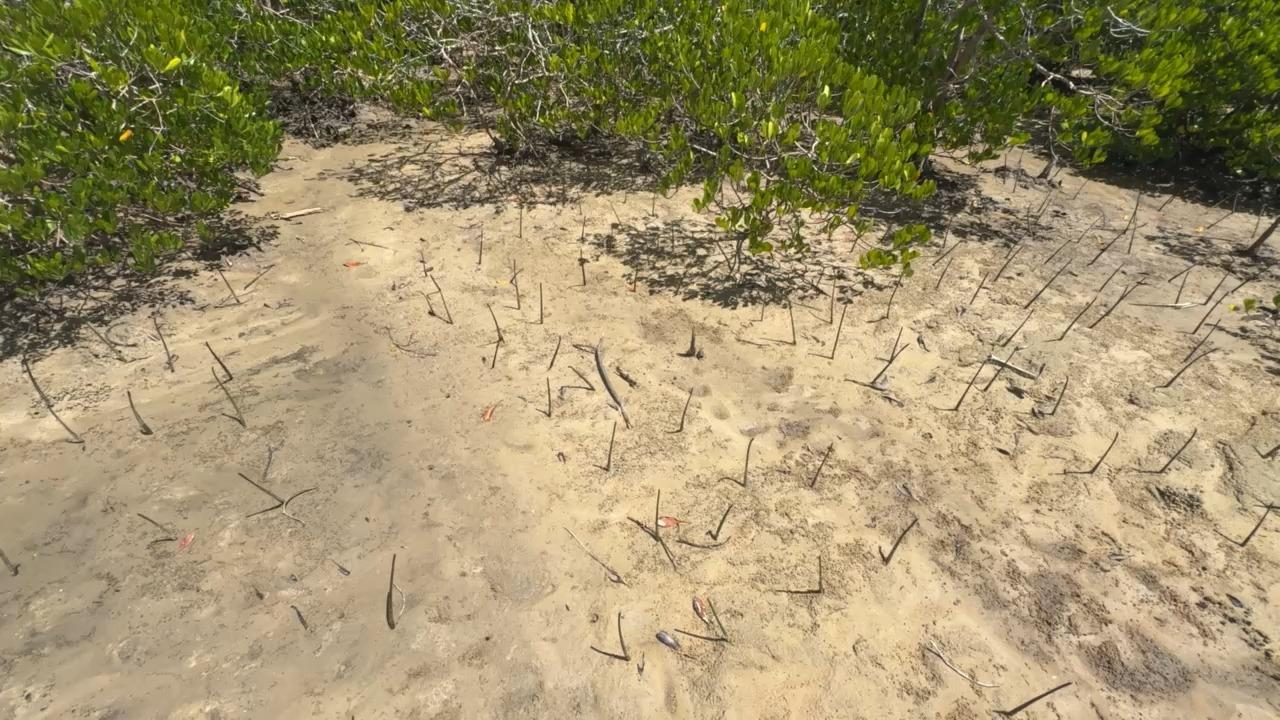Tree: (1163, 346, 1221, 388), (1023, 259, 1071, 309), (1005, 681, 1073, 715), (211, 366, 246, 428), (80, 316, 125, 362), (1087, 284, 1130, 329), (1156, 427, 1197, 473), (1058, 296, 1097, 341), (1192, 290, 1230, 335), (954, 360, 987, 411), (1183, 319, 1222, 362), (886, 261, 914, 319), (983, 346, 1018, 392), (871, 343, 910, 384), (884, 518, 918, 565), (24, 352, 52, 407), (237, 472, 284, 503), (1240, 503, 1273, 547), (1090, 431, 1119, 474), (1087, 233, 1123, 266), (1002, 309, 1034, 346), (153, 317, 174, 372), (47, 405, 79, 440), (127, 391, 153, 434), (1168, 256, 1209, 283), (809, 443, 834, 487), (137, 512, 176, 540), (993, 246, 1024, 281), (205, 340, 232, 380), (1122, 184, 1143, 234), (706, 597, 729, 642), (850, 216, 875, 252), (831, 304, 847, 360), (1203, 272, 1229, 306), (386, 554, 397, 630), (932, 240, 961, 266), (217, 269, 239, 303), (1051, 375, 1069, 416), (509, 259, 523, 310), (568, 365, 595, 391), (617, 611, 631, 661), (486, 303, 504, 341), (969, 271, 989, 305), (1076, 216, 1101, 243), (244, 266, 272, 290), (715, 504, 733, 540), (1044, 240, 1071, 264), (1099, 264, 1123, 291), (680, 387, 694, 431), (1231, 272, 1259, 294), (1004, 232, 1027, 258), (935, 258, 954, 289), (1212, 189, 1241, 209), (607, 421, 618, 472), (1251, 203, 1267, 238), (1206, 210, 1235, 229), (547, 335, 561, 371), (1122, 277, 1146, 298), (743, 438, 753, 488), (1174, 271, 1189, 304), (1034, 197, 1052, 224), (890, 326, 903, 363), (439, 291, 453, 325), (0, 548, 17, 575), (1127, 210, 1137, 255), (607, 199, 622, 225), (1036, 189, 1052, 213), (942, 217, 954, 248), (788, 301, 796, 344), (1073, 179, 1088, 200), (655, 489, 661, 541), (830, 267, 835, 325), (1157, 194, 1173, 212), (817, 554, 824, 594), (1262, 444, 1280, 459), (580, 248, 587, 286), (1013, 164, 1021, 193), (430, 274, 442, 291), (1026, 207, 1032, 237), (478, 230, 483, 265), (547, 377, 551, 418), (421, 250, 427, 277), (651, 190, 656, 217), (1052, 166, 1063, 178), (581, 216, 586, 241), (671, 222, 675, 253), (1003, 153, 1007, 184), (540, 283, 543, 324), (577, 191, 582, 215), (634, 263, 638, 292), (1017, 149, 1024, 164), (519, 208, 522, 239), (761, 302, 764, 322), (624, 189, 627, 203)
